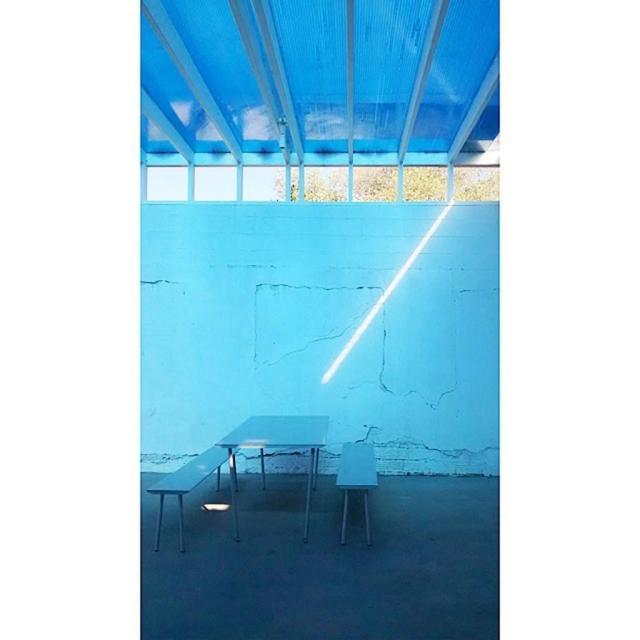Table: (215, 414, 329, 542)
